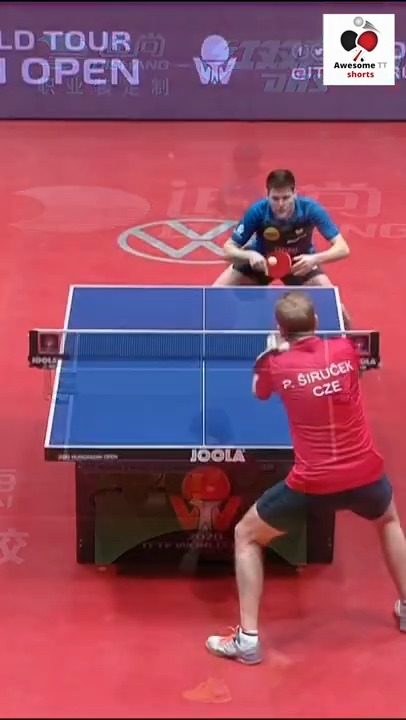Ball: (266, 256, 278, 266)
